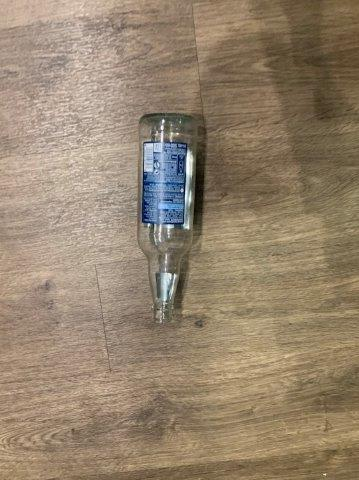botolkaca: (138, 114, 199, 320)
